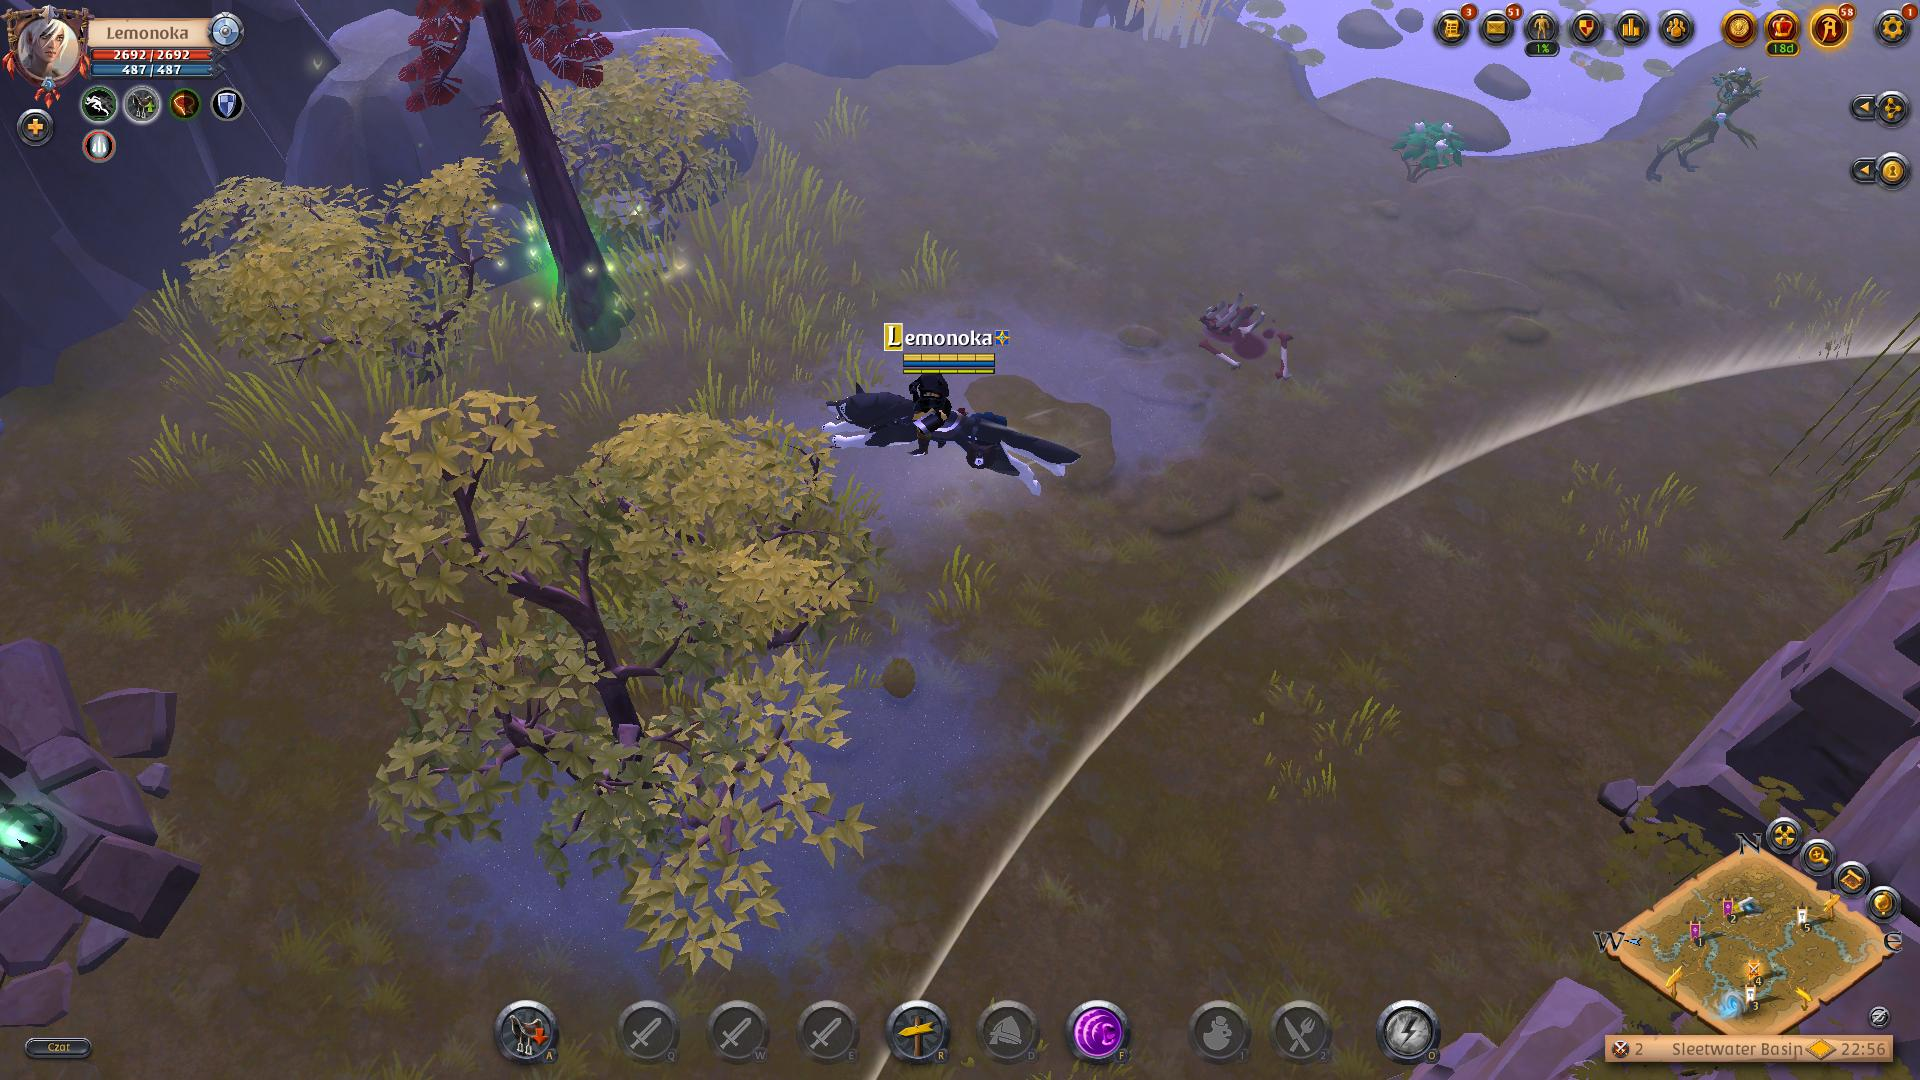fiber tier 3: (1390, 113, 1470, 190)
